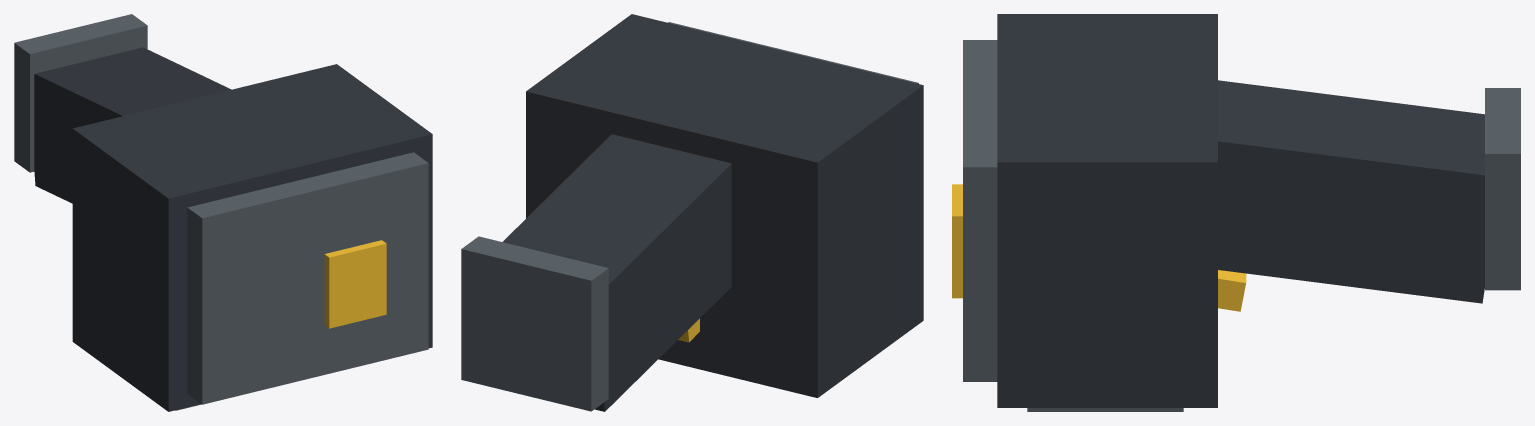
The model's file is pistol_scanner_godot.glb.
3 renders of one model, left to right at view 1: azimuth 30°, elevation 25°; view 2: azimuth 150°, elevation 25°; view 3: azimuth 270°, elevation 25°, orthographic. The views are drawn at different scales.
Visible parts, largest first — view 1: world; view 2: world; view 3: world.
Boxes of the visible parts, x1,y1,x2,y2 form: world: [14, 14, 432, 411]; world: [461, 14, 923, 411]; world: [952, 14, 1520, 411].
Bounding box in the file's own units: 1.75 × 1.48 × 2.83.
